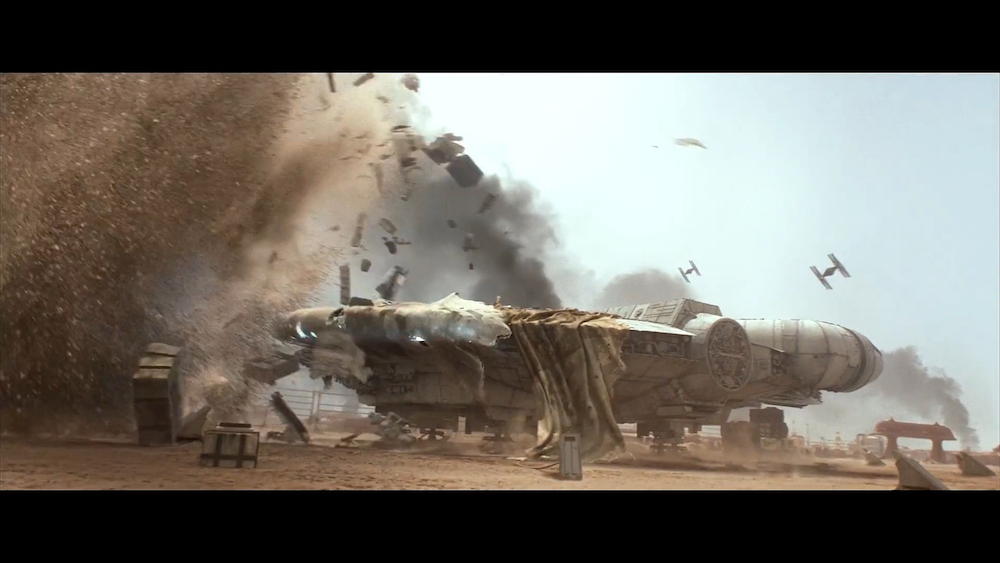Millennium Falcon: (292, 300, 886, 420)
Tie Fighter: (810, 254, 851, 290), (678, 261, 701, 284)
